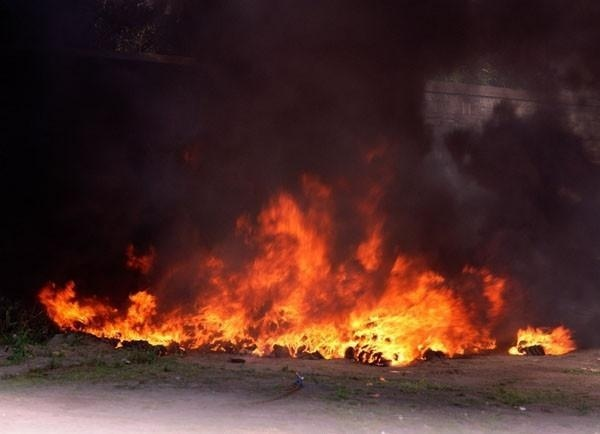fire: (15, 157, 566, 368)
